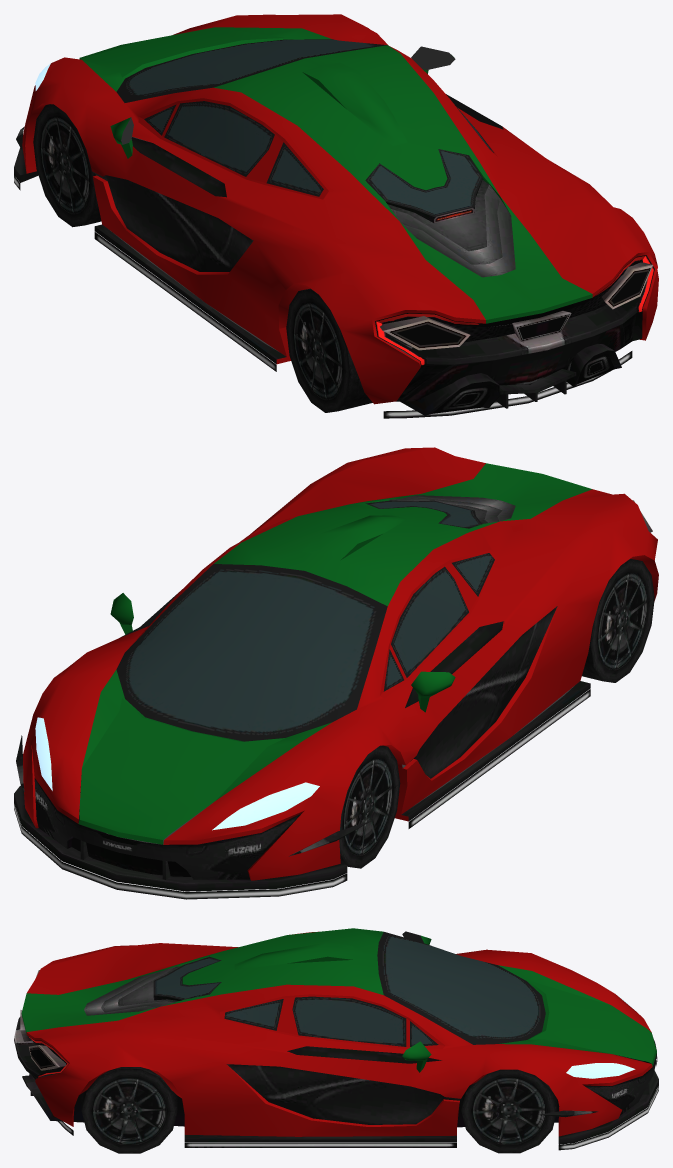
File: car_78.glb
3 renders of one model, top to bottom at view 1: azimuth 30°, elevation 25°; view 2: azimuth 150°, elevation 25°; view 3: azimuth 270°, elevation 25°, orthographic. The views are drawn at different scales.
Parts seen in each view (by area): view 1: car_78; view 2: car_78; view 3: car_78.
Part boxes in pixels (left/top/right/bottom): car_78: left=14, top=14, right=658, bottom=418; car_78: left=14, top=447, right=658, bottom=899; car_78: left=14, top=928, right=658, bottom=1153.
Bounding box in the file's own units: 24.98 × 13.71 × 52.98.
Materials: 14 (14 with a texture image).
